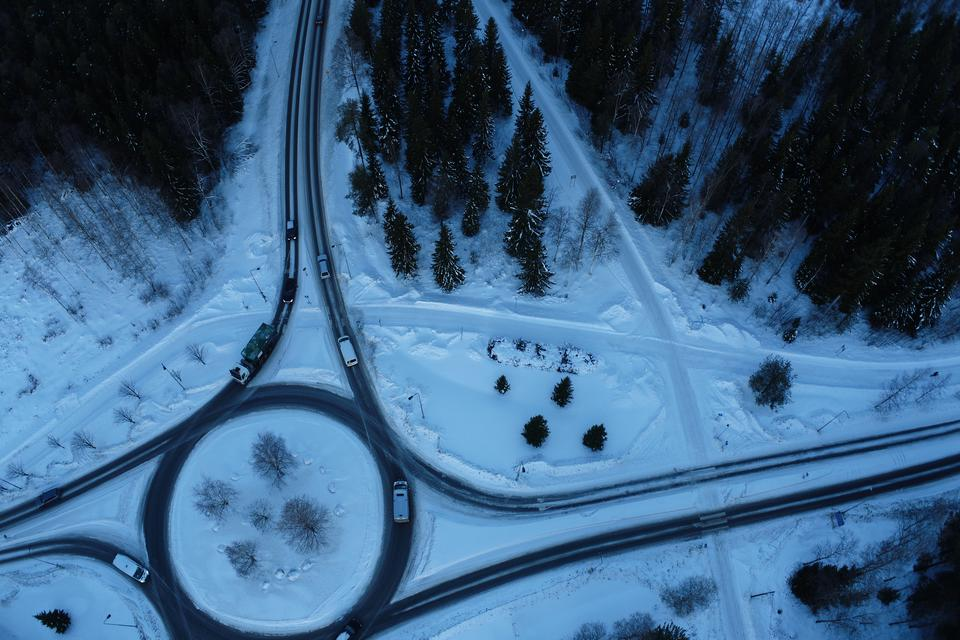intersection: (228, 275, 386, 341), (668, 434, 750, 551)
roundabout: (109, 351, 447, 640)
